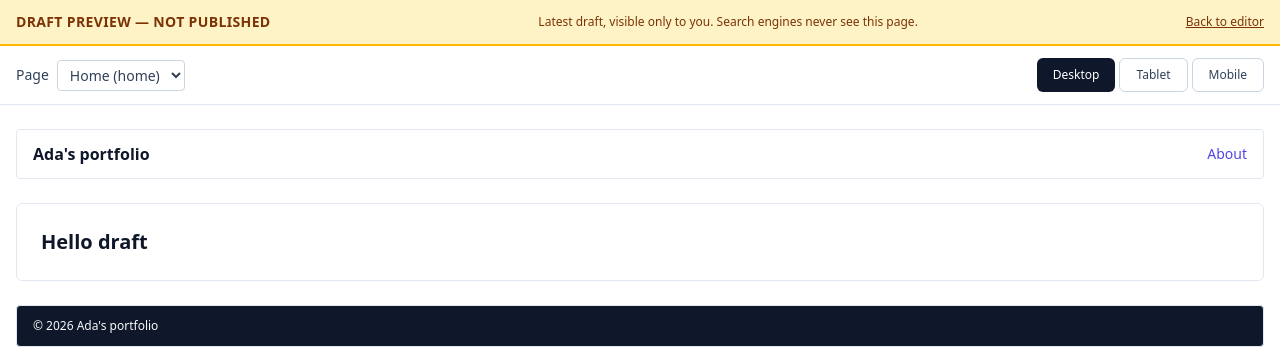
DraftPreview › switches the rendered page from the page selector
Expected: the heading "Hello draft" is shown, [41,228,148,255]
Select "About" in the dropdown labelled "Page". click: {"x": 121, "y": 75}
box: [57,60,185,90]
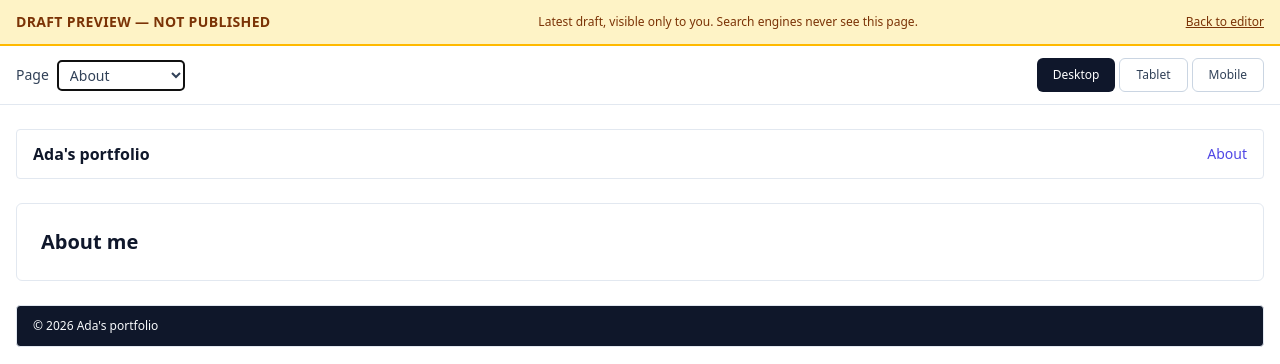
Expected: the heading "About me" is shown, [41,228,138,255]
Expected: the heading "Hello draft" is gone
